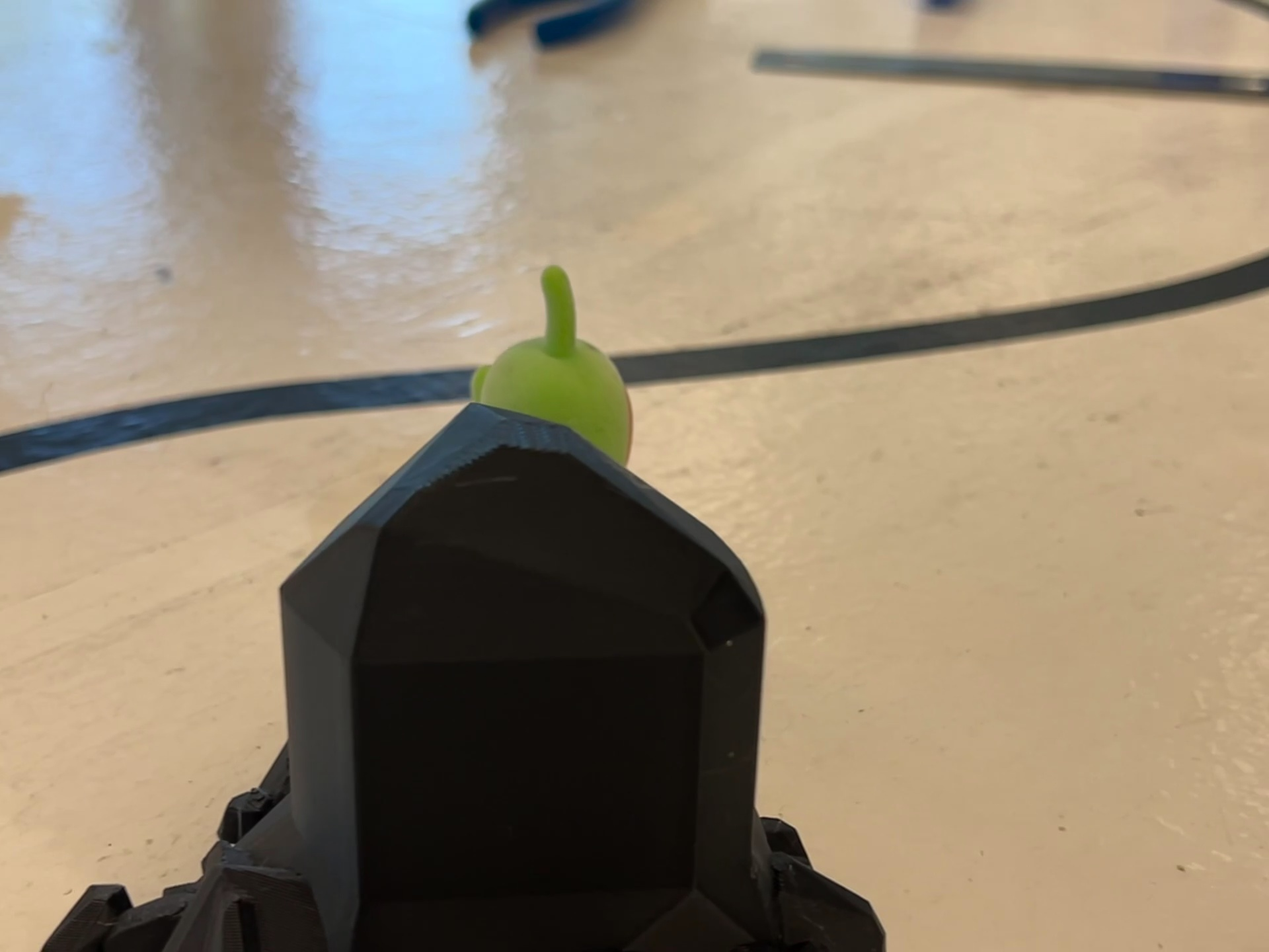teletubby: (471, 266, 633, 465)
